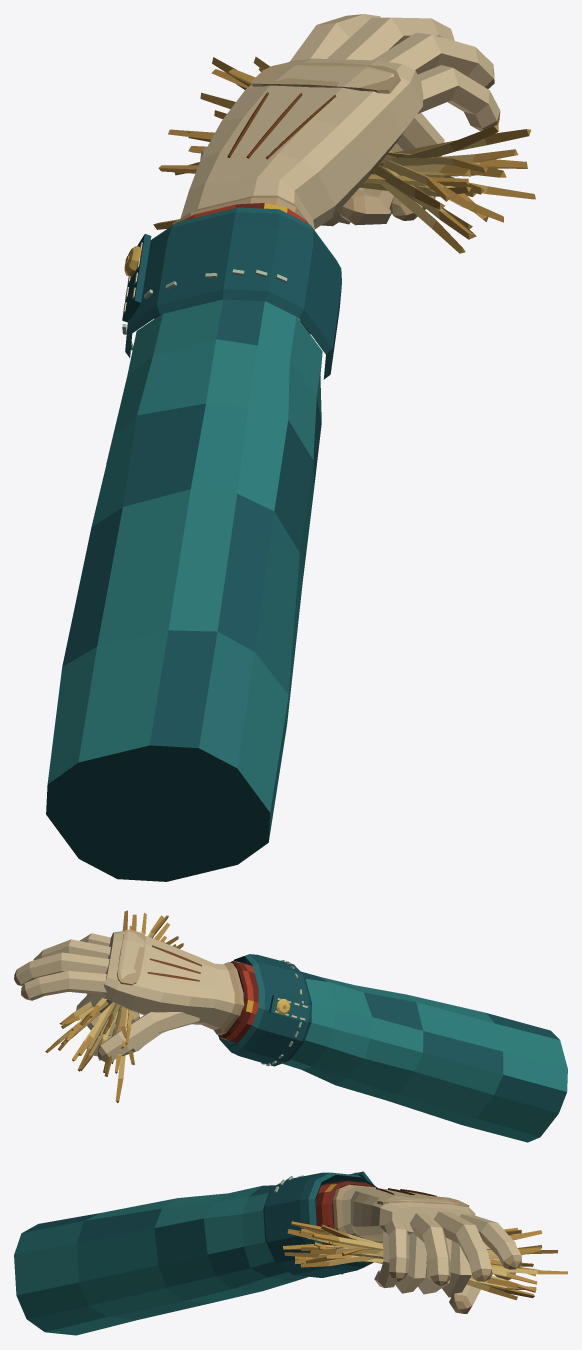
The model's file is fp_hand.glb.
3 renders of one model, top to bottom at view 1: azimuth 30°, elevation 25°; view 2: azimuth 150°, elevation 25°; view 3: azimuth 270°, elevation 25°, orthographic. The views are drawn at different scales.
Visible parts, largest first — view 1: arm, hand_grab, hand_open; view 2: arm, hand_grab, hand_open; view 3: arm, hand_grab, hand_open.
Part boxes in pixels (<box>): arm: <box>46,203,341,881</box>; hand_grab: <box>153,56,535,320</box>; hand_open: <box>200,14,500,159</box>; arm: <box>218,954,567,1142</box>; hand_grab: <box>45,910,244,1102</box>; hand_open: <box>14,933,199,1061</box>; arm: <box>14,1171,377,1335</box>; hand_grab: <box>283,1184,567,1313</box>; hand_open: <box>384,1211,521,1286</box>.
Size of the model in its own units: 0.3981 by 0.2432 by 0.4468.
